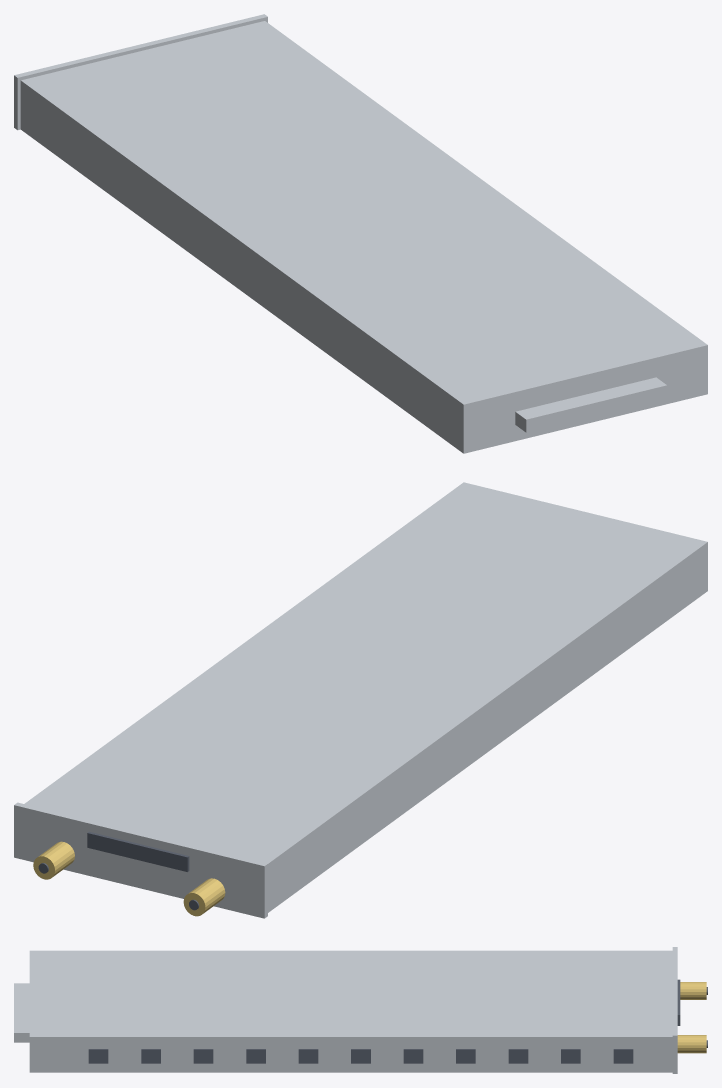
File: oband-laser-81606a.glb
3 renders of one model, top to bottom at view 1: azimuth 30°, elevation 25°; view 2: azimuth 150°, elevation 25°; view 3: azimuth 270°, elevation 25°, orthographic. The views are drawn at different scales.
Visible parts, largest first — view 1: silver TLS extended body, silver rear extraction handle, silver horizontal front panel; view 2: silver TLS extended body, silver horizontal front panel, gold optical connector (×2), black model nameplate; view 3: silver TLS extended body, black ventilation (×11), gold optical connector (×2), silver rear extraction handle, silver horizontal front panel.
Boxes of the visible parts, left/top/right/bottom form: silver TLS extended body: left=20, top=21, right=707, bottom=453; silver rear extraction handle: left=515, top=377, right=667, bottom=432; silver horizontal front panel: left=14, top=14, right=267, bottom=130; silver TLS extended body: left=24, top=482, right=707, bottom=912; silver horizontal front panel: left=14, top=802, right=267, bottom=918; gold optical connector (×2): left=33, top=841, right=225, bottom=916; black model nameplate: left=87, top=831, right=189, bottom=871; silver TLS extended body: left=29, top=950, right=672, bottom=1072; black ventilation (×11): left=88, top=1049, right=633, bottom=1063; gold optical connector (×2): left=677, top=982, right=706, bottom=1053; silver rear extraction handle: left=14, top=983, right=29, bottom=1042; silver horizontal front panel: left=672, top=947, right=677, bottom=1073.
Size of the model in its own units: 0.16 by 0.032 by 0.529.
